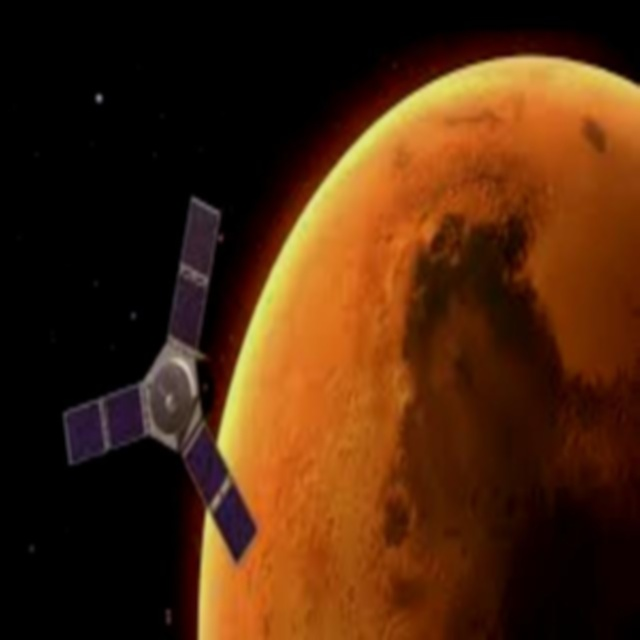satellite: (51, 183, 268, 603)
